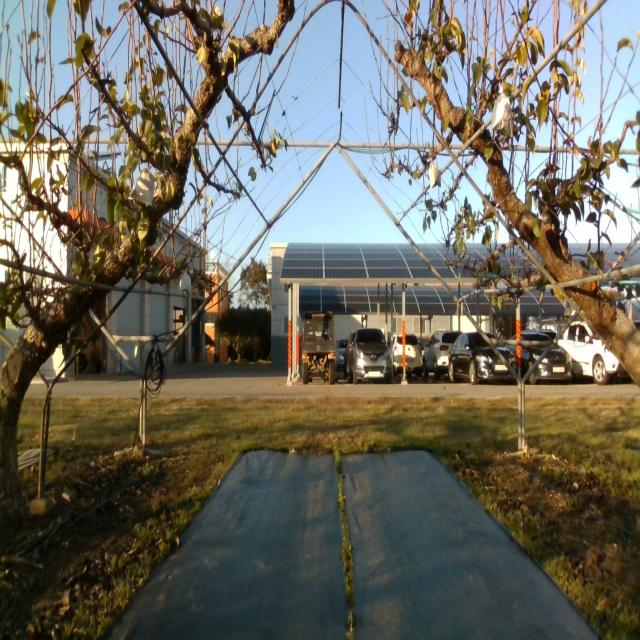pearbags: (491, 87, 513, 138), (128, 163, 154, 206), (429, 156, 441, 188), (180, 267, 191, 295)
